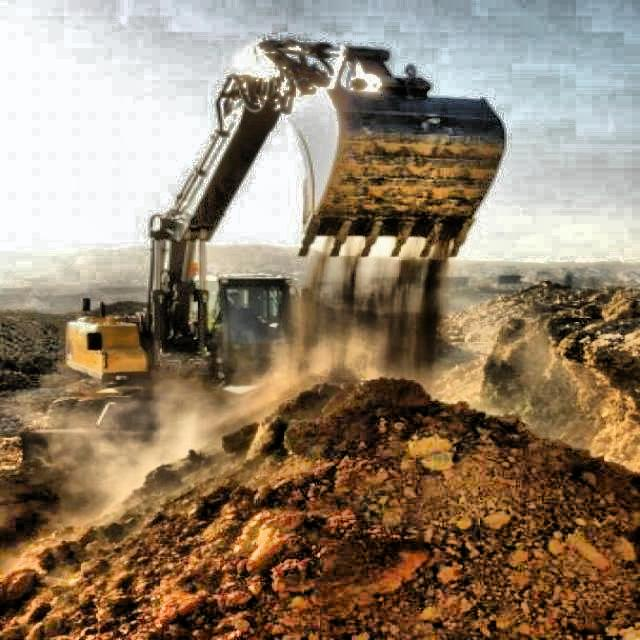bull_dozer/loader/grader: (19, 38, 508, 468)
person: (228, 290, 266, 330)
